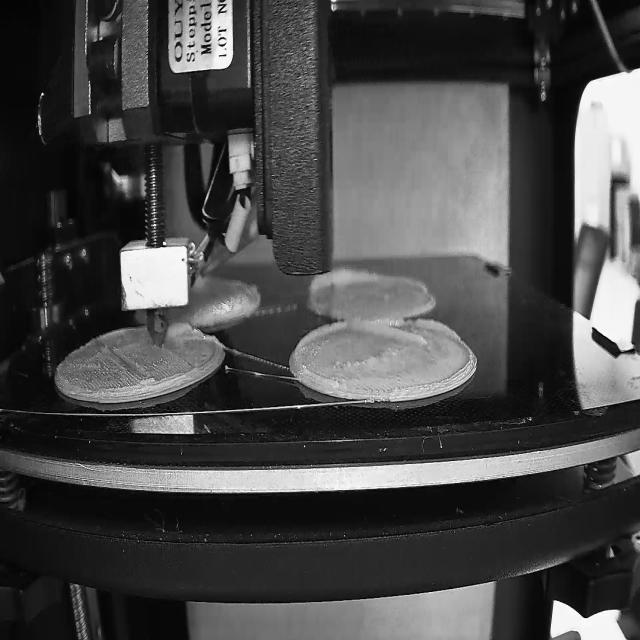over_extrusion: (292, 318, 350, 385), (352, 317, 460, 352), (315, 263, 379, 292), (166, 323, 202, 342)
